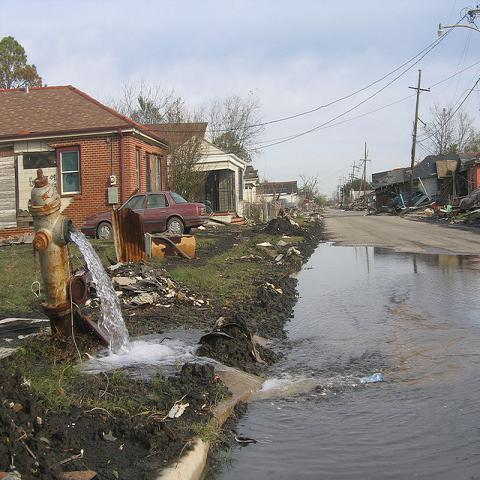car: (80, 192, 210, 243)
